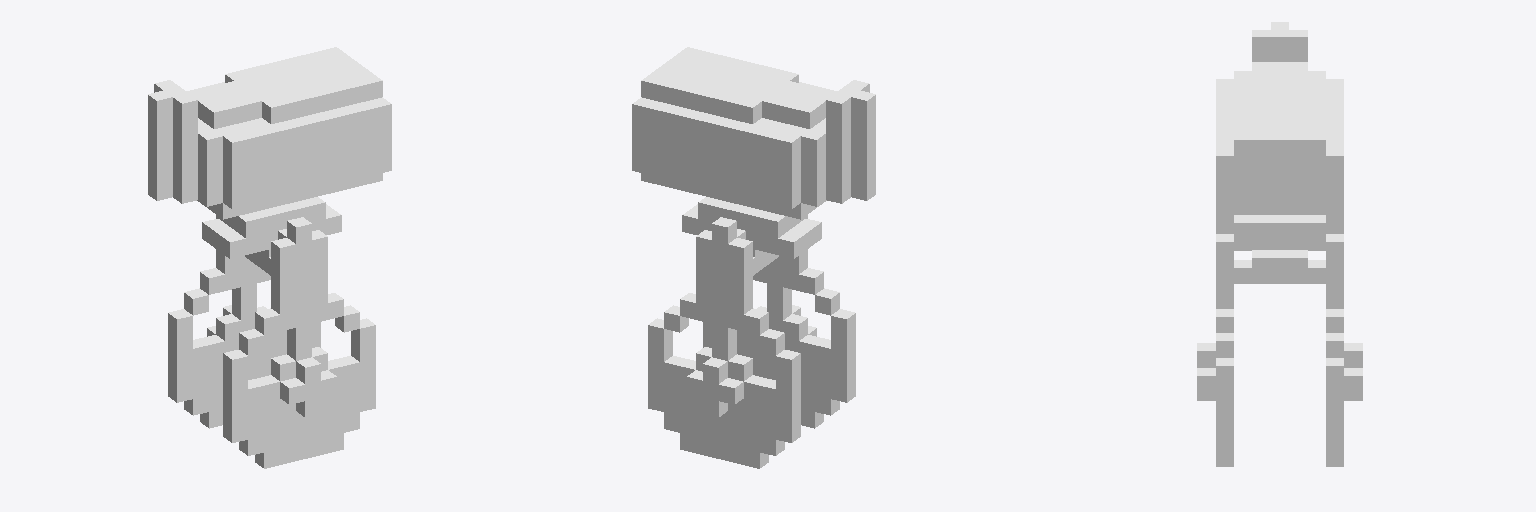
Rendered from robot_body-1.obj.
The picture shows the model from 3 angles: view 1: azimuth 30°, elevation 25°; view 2: azimuth 150°, elevation 25°; view 3: azimuth 270°, elevation 25°; orthographic projection.
Visible parts, largest first — view 1: object 1; view 2: object 1; view 3: object 1.
Part boxes in pixels (bbox=[...]): object 1: bbox=[148, 47, 391, 468]; object 1: bbox=[632, 47, 875, 468]; object 1: bbox=[1197, 22, 1362, 466].
Size of the model in its own units: 1.3 by 2.2 by 0.9.